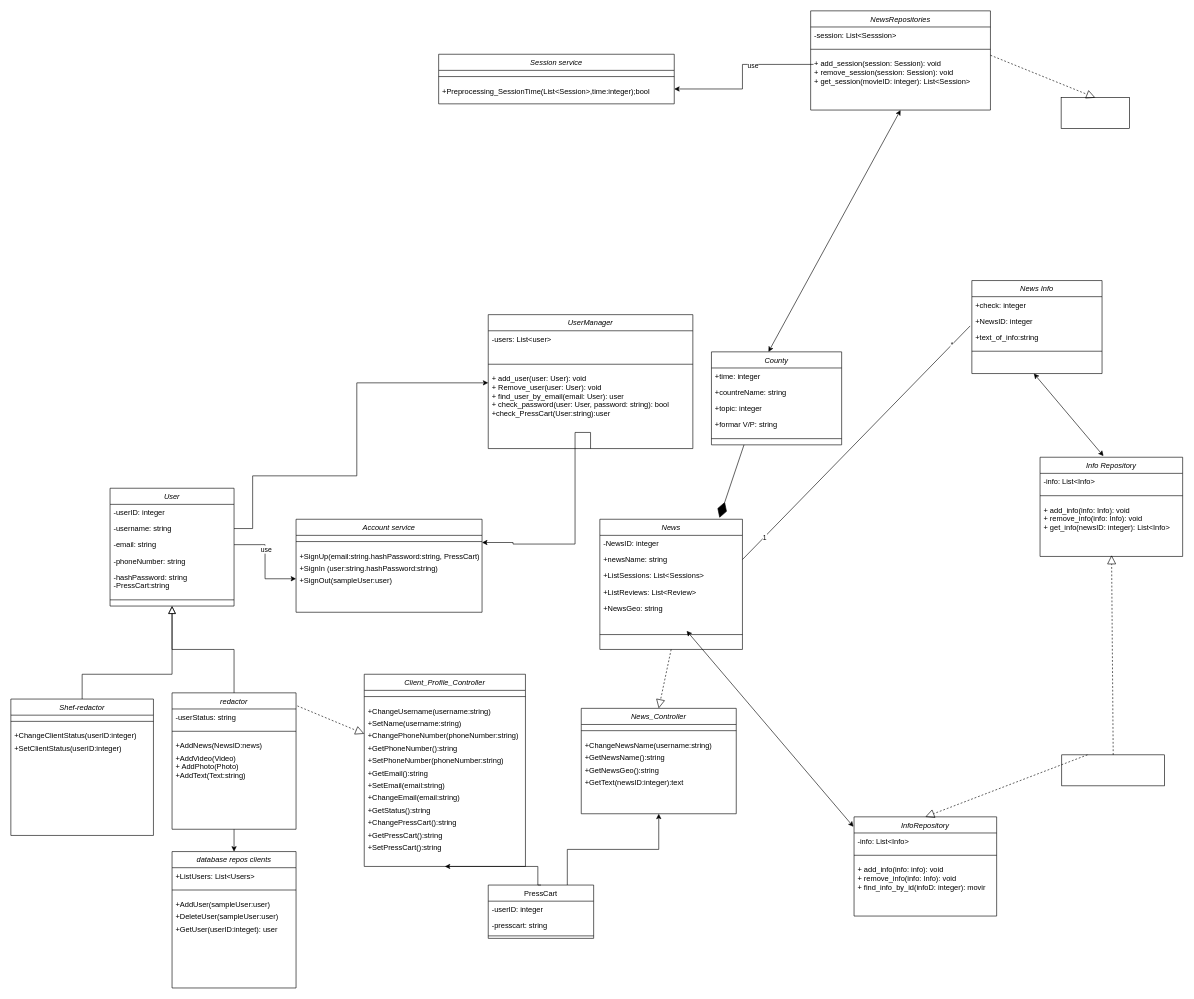
The diagram is 1194 pixels wide and 999 high, and some of its shapes have lost their labels. Each missing label, with the centre of its shape:
"«interface» InfoBase" belongs at (x=1113, y=770).
"«interface» World News" belongs at (x=1095, y=113).
